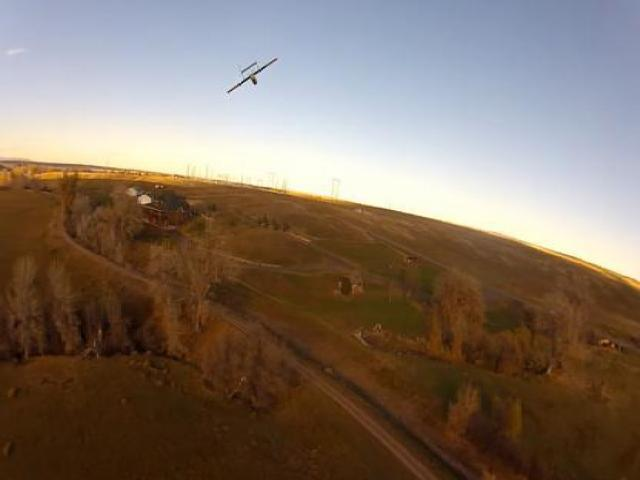uav: (226, 50, 279, 95)
